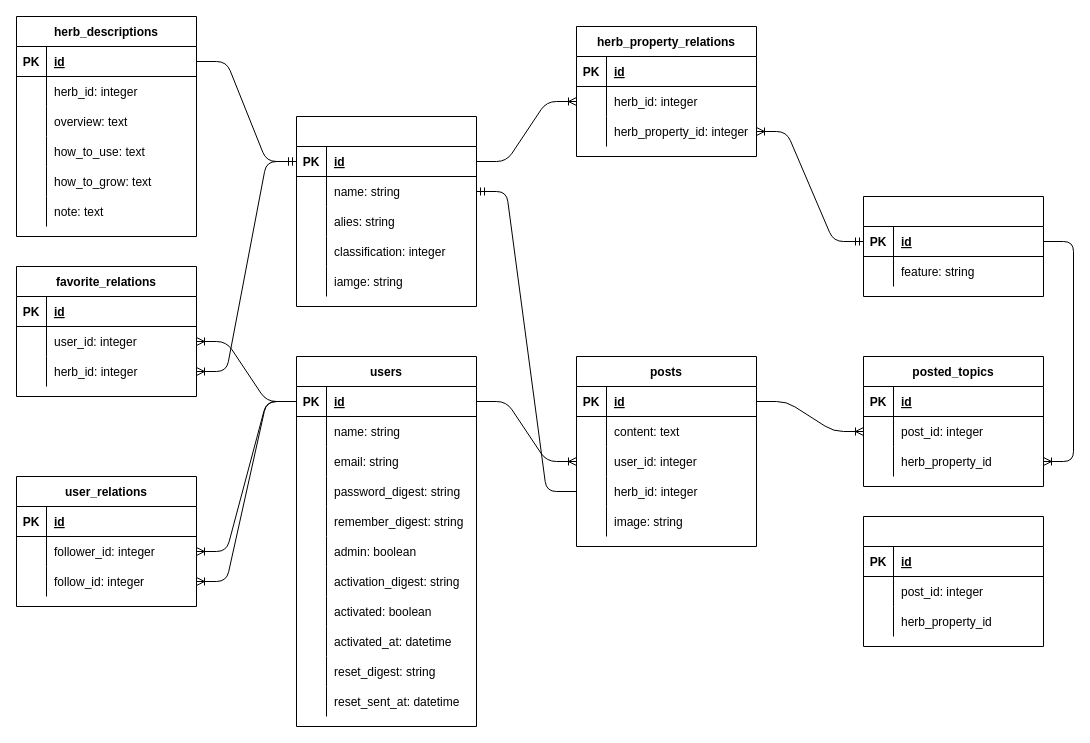
Image size: 1090x743. Some labels were removed from this diagram. Here are the shapes that lost their labels. From the top down, the box of each, then its label:
(296, 116, 476, 306): herbs
(862, 196, 1044, 296): herb_properties
(862, 516, 1044, 646): posted_topic_relations
